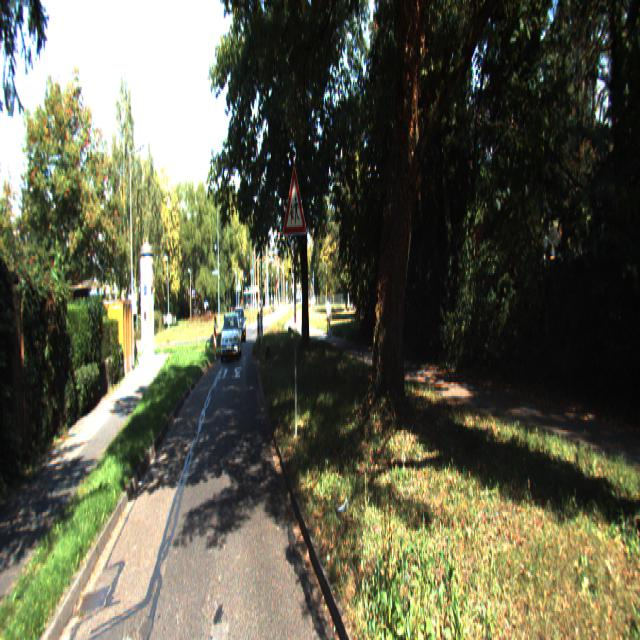Car: (220, 309, 240, 360)
